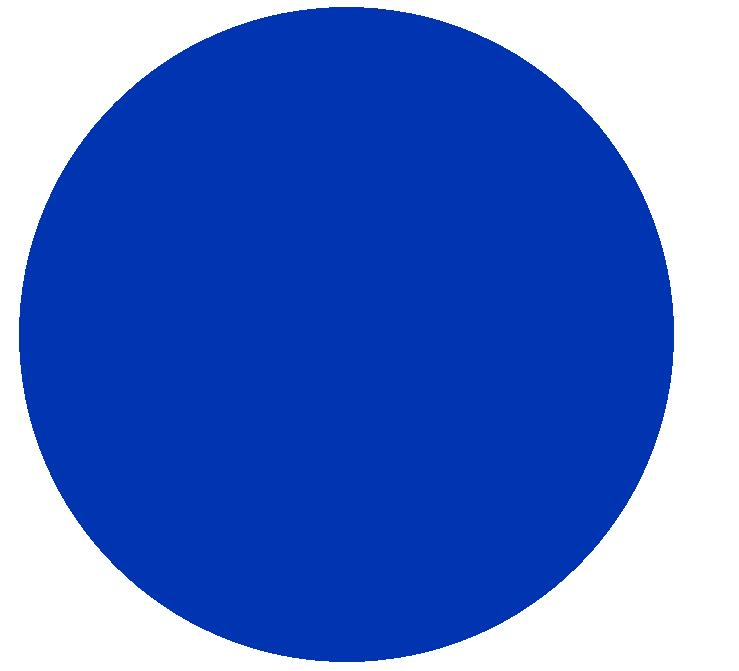blue_circle: (0, 0, 681, 671)
